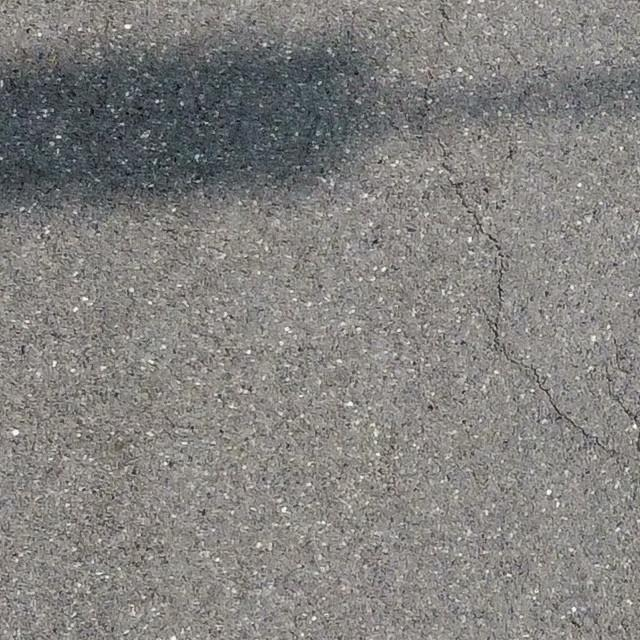LongitudinalCrack: (436, 131, 636, 460)
